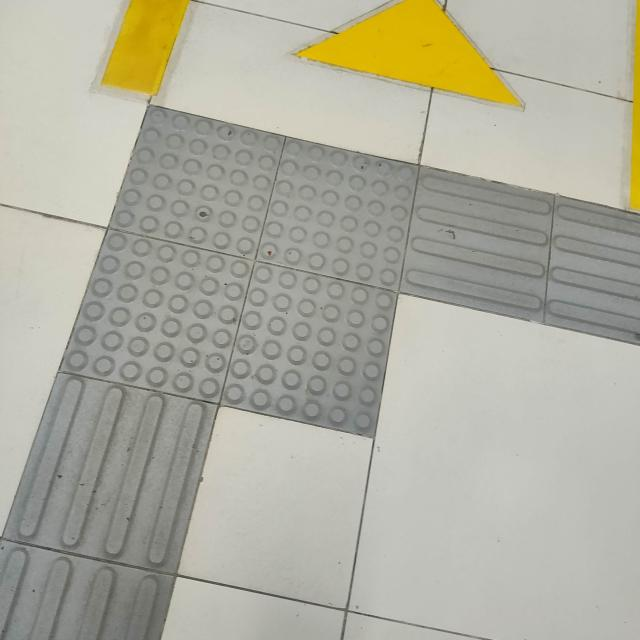kanan: (35, 85, 640, 470)
